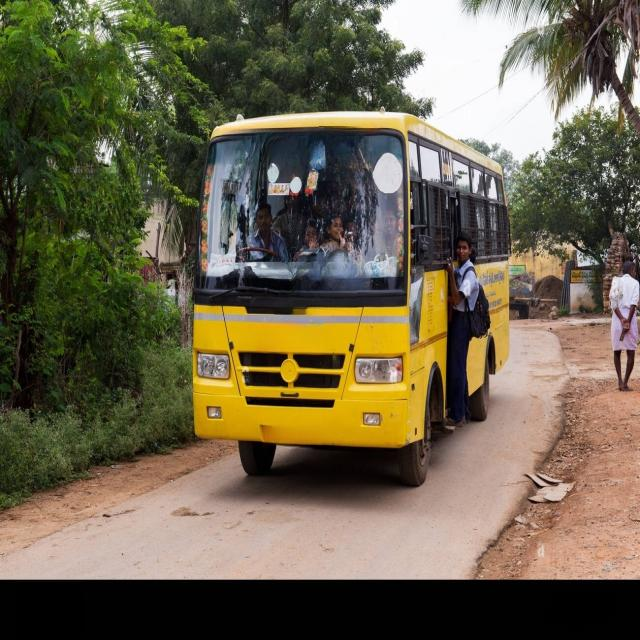bus: (194, 109, 510, 484)
